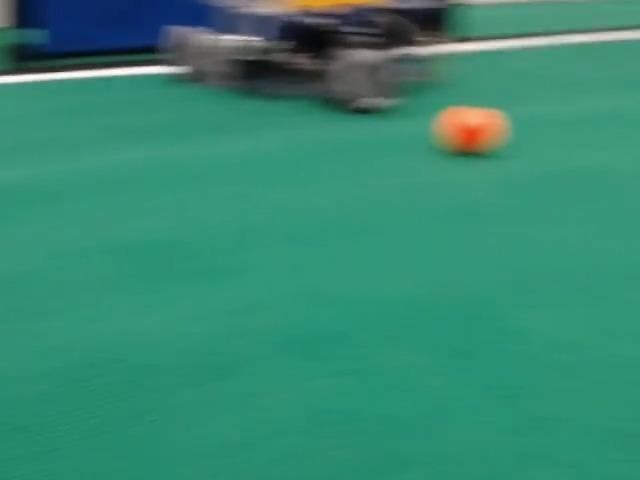Ball: (432, 106, 510, 154)
